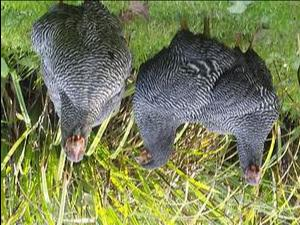hen: (131, 12, 281, 186), (30, 1, 132, 163)
